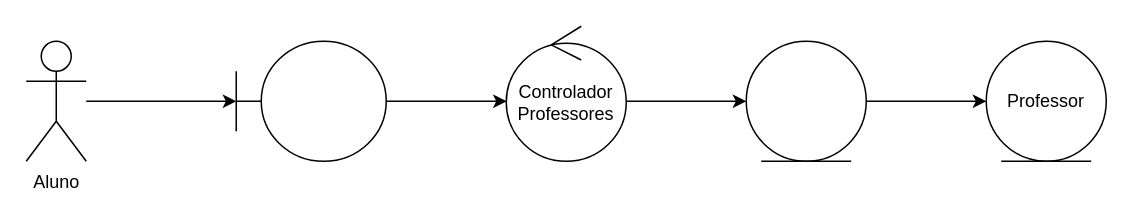
Some shapes in this 1133 by 219 pixel diagram are drawn without their labels. Here are the shapes that lost their labels. From the top down, the box of each, then its label:
(235, 40, 386, 161): Tela Solicitar Orientador TCC
(745, 40, 866, 161): Colecao Professores
